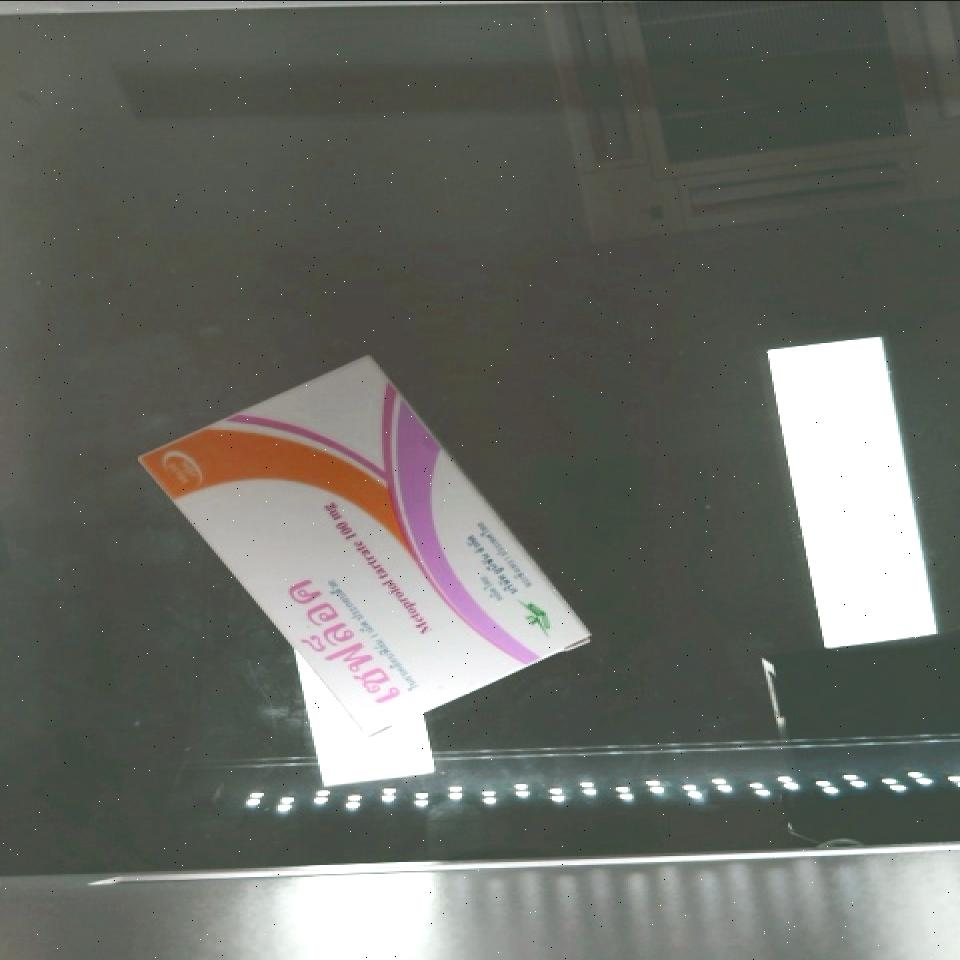medicine_box: (140, 306, 591, 788)
medicine_label_obb: (249, 547, 427, 748)
